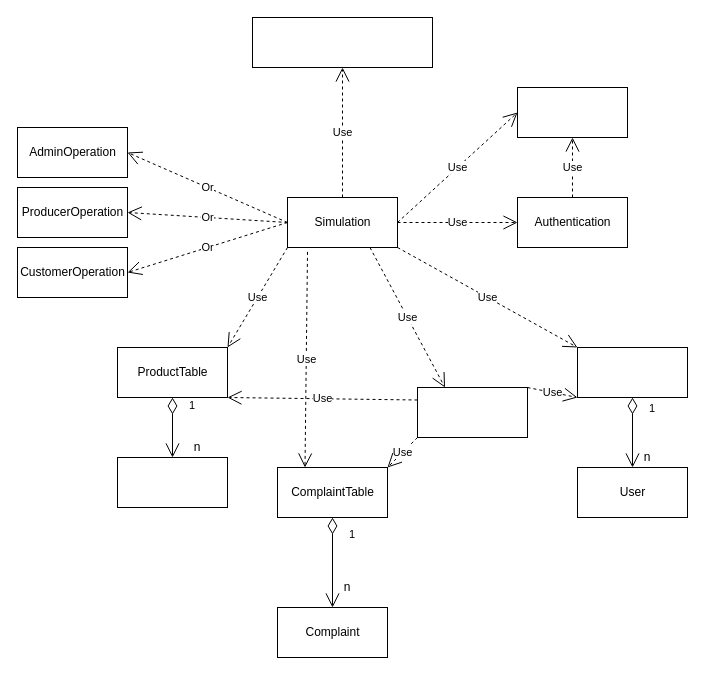
Some shapes in this 705 by 675 pixel diagram are drawn without their labels. Here are the shapes that lost their labels. From the top down, the box of each, then its label:
(252, 16, 432, 68): CustomerComplaintAppView
(516, 86, 628, 138): AuthenticationView
(576, 346, 688, 398): UserTable
(416, 386, 528, 438): FileIO
(116, 456, 228, 508): Product
